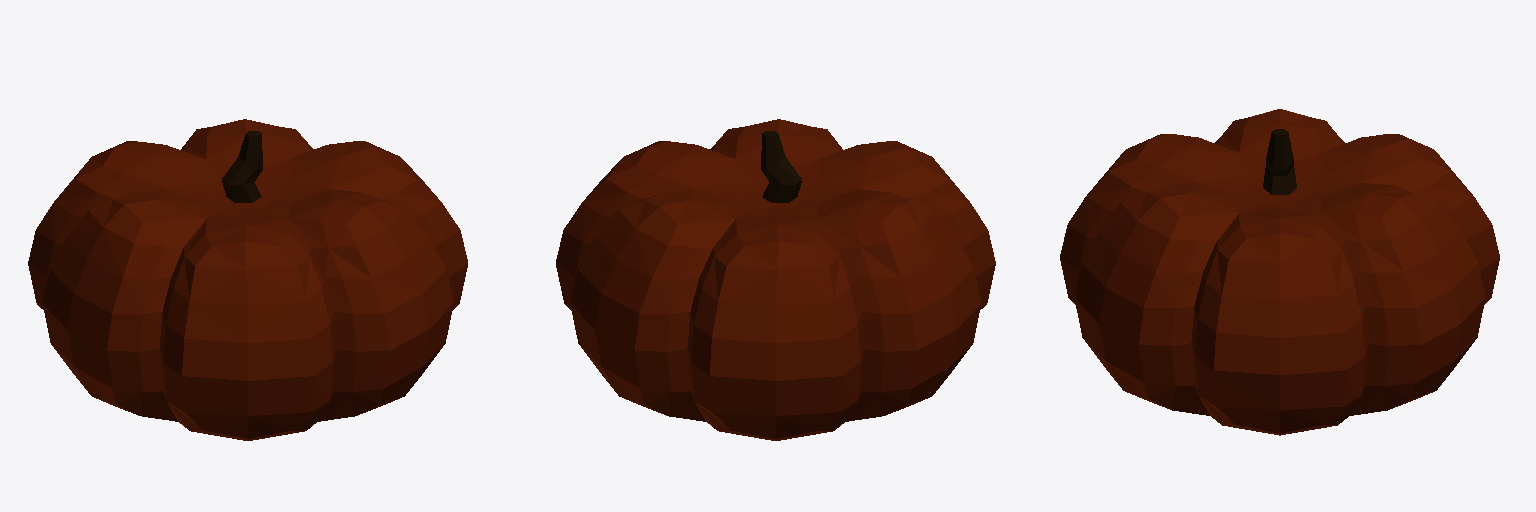
The model's file is Pumpkin.obj.
3 views of the same model, side by side, from view 1: azimuth 30°, elevation 25°; view 2: azimuth 150°, elevation 25°; view 3: azimuth 270°, elevation 25° (orthographic).
Visible parts, largest first — view 1: Pumpkin_Cylinder.047; view 2: Pumpkin_Cylinder.047; view 3: Pumpkin_Cylinder.047.
Boxes of the visible parts, box(x1,y1,x2,y2) form: Pumpkin_Cylinder.047: box(28, 119, 467, 440); Pumpkin_Cylinder.047: box(556, 119, 995, 440); Pumpkin_Cylinder.047: box(1060, 109, 1499, 435).
Bounding box in the file's own units: 1.5 × 0.9309 × 1.51.